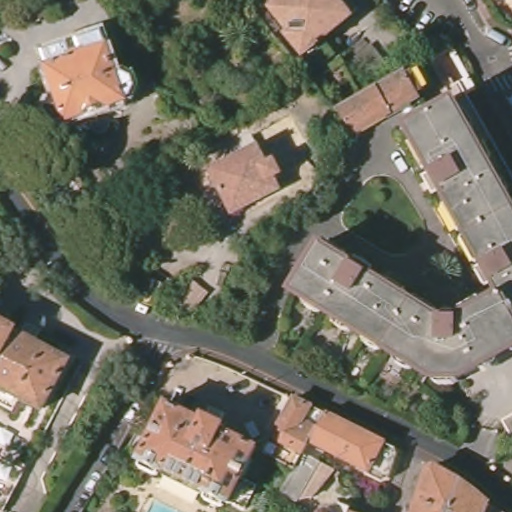pool: (138, 492, 175, 509)
